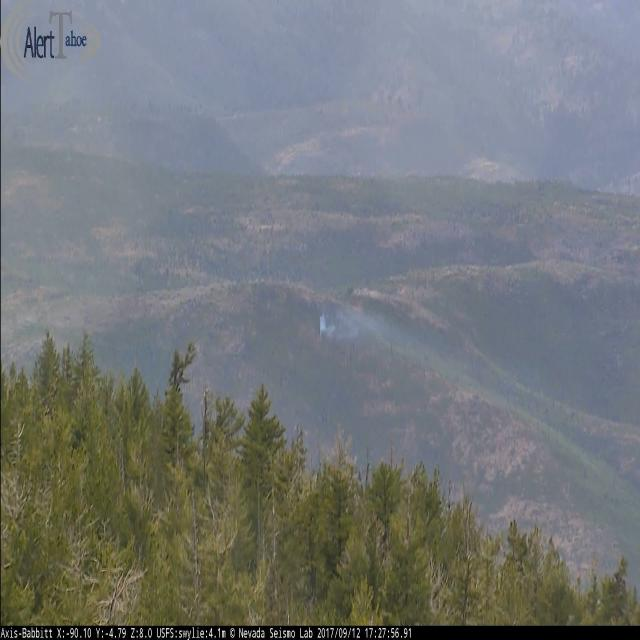smoke: (319, 305, 362, 336)
